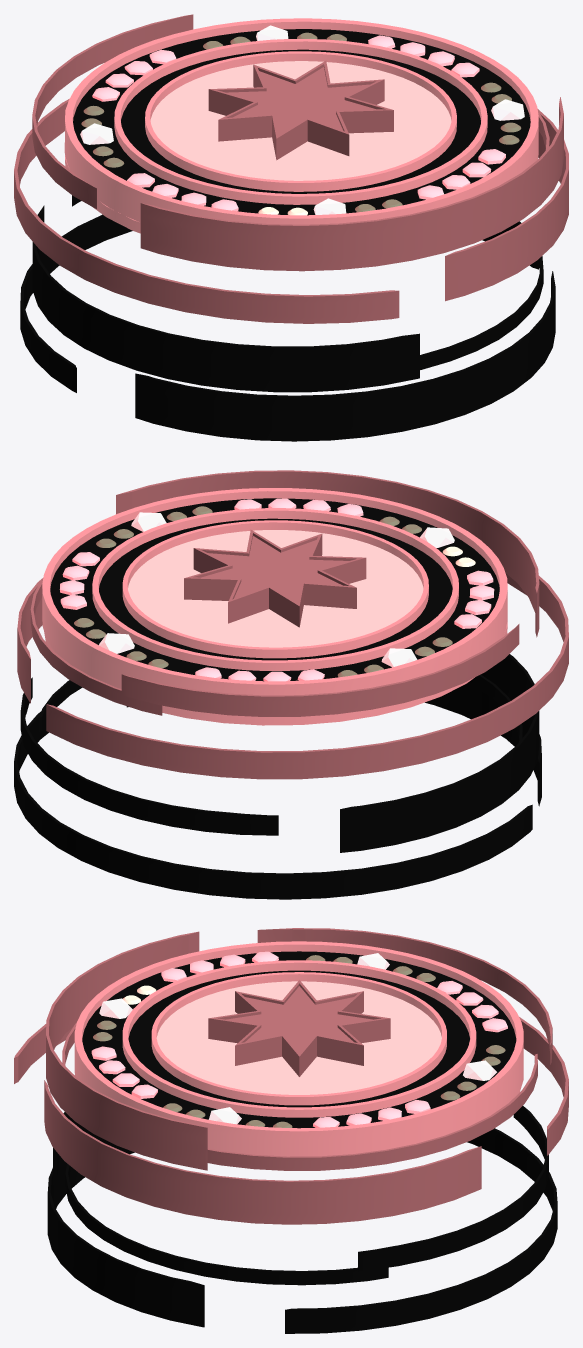
File: pachinko-stage.glb
3 views of the same model, one above another, from view 1: azimuth 30°, elevation 25°; view 2: azimuth 150°, elevation 25°; view 3: azimuth 270°, elevation 25° (orthographic). The views are drawn at different scales.
Visible parts, largest first — view 1: Boolean.3, Boolean.9, Boolean.8, 바닥, Cylinder.001, Tube.008, Boolean.2, Boolean, Tube.006, Tube.007, Boolean.4, Boolean.011 (+5 smaller); view 2: Boolean.2, 바닥, Cylinder.001, Tube.008, Boolean.7, Boolean, Boolean.8, Boolean.3, Tube.006, Boolean.011, Tube.007, Boolean.6 (+6 smaller); view 3: Boolean.4, Tube.008, 바닥, Cylinder.001, Boolean.3, Boolean, Boolean.7, Tube.006, Boolean.9, Tube.007, Boolean.010, Boolean.011 (+5 smaller).
Boxes of the visible parts, x1,y1,x2,y2 form: Boolean.3: (140,97,563,271); Boolean.9: (135,271,555,441); Boolean.8: (32,205,419,392); 바닥: (150,61,451,180); Cylinder.001: (73,29,530,215); Tube.008: (65,18,538,224); Boolean.2: (14,99,399,323); Boolean: (208,60,393,160); Tube.006: (114,39,487,204); Tube.007: (145,51,456,191); Boolean.4: (445,109,568,301); Boolean.011: (32,14,193,208); Boolean.2: (46,573,568,779); 바닥: (128,530,423,647); Cylinder.001: (50,498,499,681); Tube.008: (42,488,507,717); Boolean.7: (14,711,532,899); Boolean: (184,529,366,627); Boolean.8: (340,654,539,852); Boolean.3: (116,470,539,637); Tube.006: (92,508,458,670); Boolean.011: (121,624,519,716); Tube.007: (122,520,428,658); Boolean.6: (20,677,278,835); Boolean.4: (44,1080,481,1224); Tube.008: (74,941,523,1156); 바닥: (156,981,441,1094); Cylinder.001: (82,951,516,1128); Boolean.3: (46,931,207,1170); Boolean: (208,980,390,1076); Boolean.7: (285,1128,557,1333); Tube.006: (122,960,476,1117); Boolean.9: (47,1137,204,1327); Tube.007: (151,972,446,1105); Boolean.010: (62,1022,537,1170); Boolean.011: (257,928,552,1064).
Bounding box in the file's own units: 45.78 × 20.61 × 47.99.
